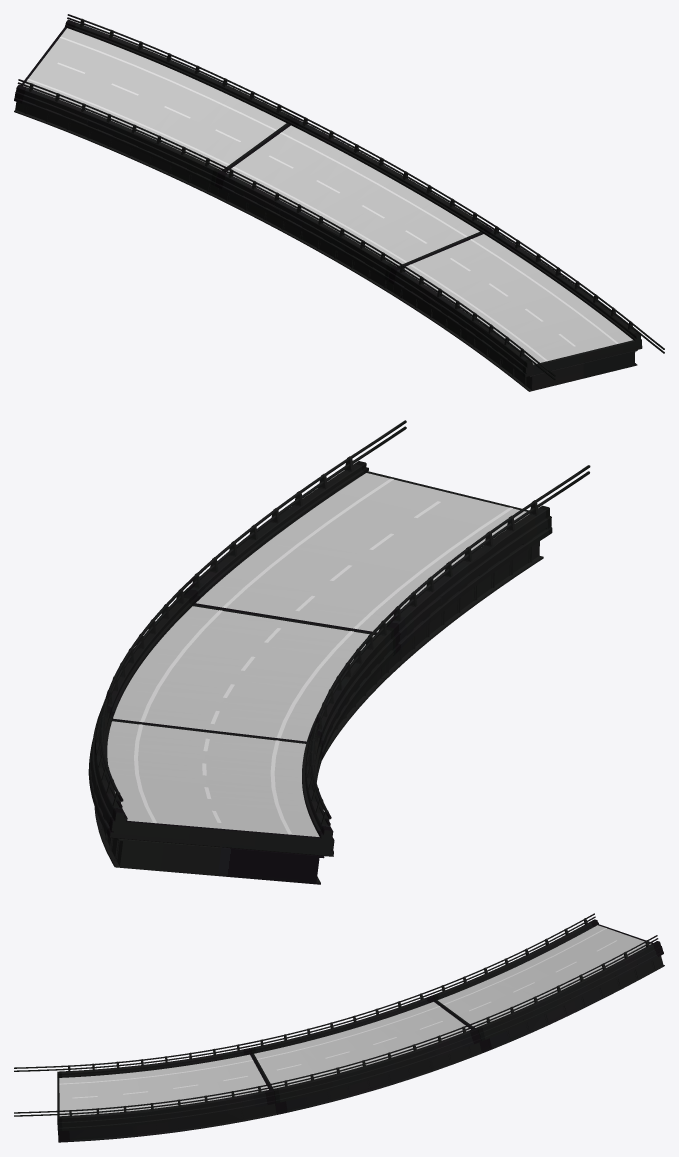
The model's file is Highway_Bend.fbx.
The picture shows the model from 3 angles, top to bottom: view 1: azimuth 30°, elevation 25°; view 2: azimuth 150°, elevation 25°; view 3: azimuth 270°, elevation 25°; orthographic projection. The views are drawn at different scales.
Parts seen in each view (by area): view 1: SM_City_Highway_Bend_01.mo; view 2: SM_City_Highway_Bend_01.mo; view 3: SM_City_Highway_Bend_01.mo.
Boxes of the visible parts, bbox=[...] form: SM_City_Highway_Bend_01.mo: bbox=[14, 14, 664, 391]; SM_City_Highway_Bend_01.mo: bbox=[88, 420, 590, 884]; SM_City_Highway_Bend_01.mo: bbox=[14, 913, 664, 1142].
Bounding box in the file's own units: 2879 × 1278 × 6274.
